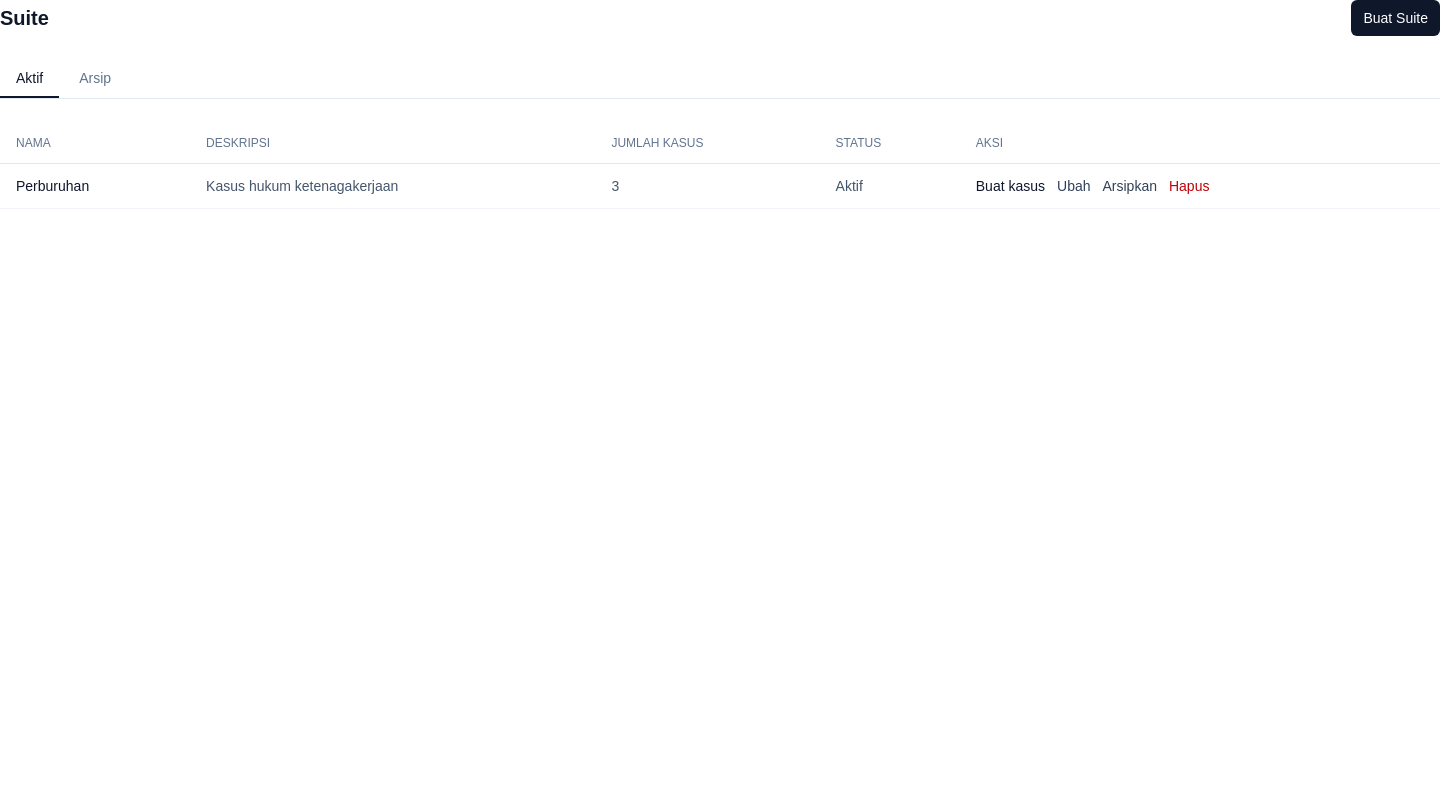
Test: SuitesPage › opens the edit dialog from a row
This screenshot has width=1440, height=810.
What coordinates should you click on to do the following:
click the button with aria-label "Ubah Perburuhan"
I would click on:
 (1074, 186)
Its box is [1057, 176, 1090, 196].
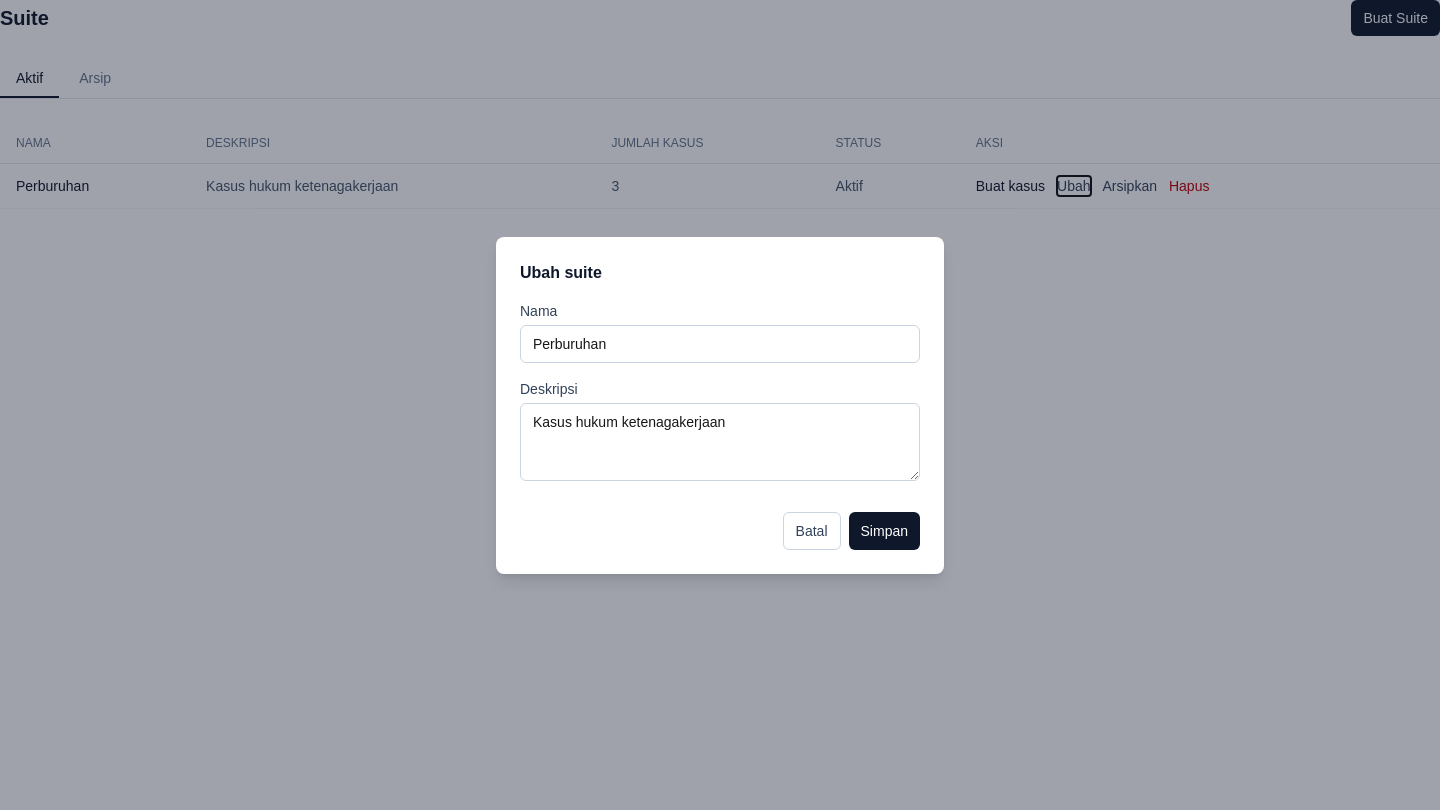
Now the dialog "Ubah suite" is shown, box [496, 236, 944, 574]
Now the field labelled "Nama" holds "Perburuhan", box [520, 324, 920, 362]
